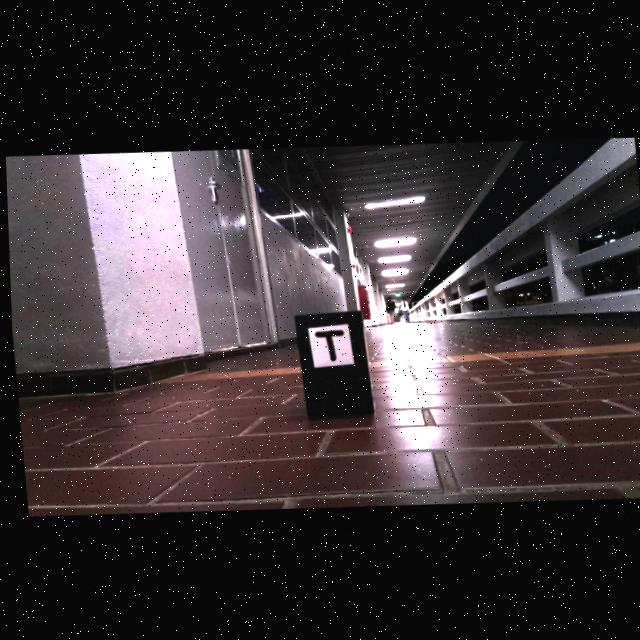T: (312, 328, 342, 360)
